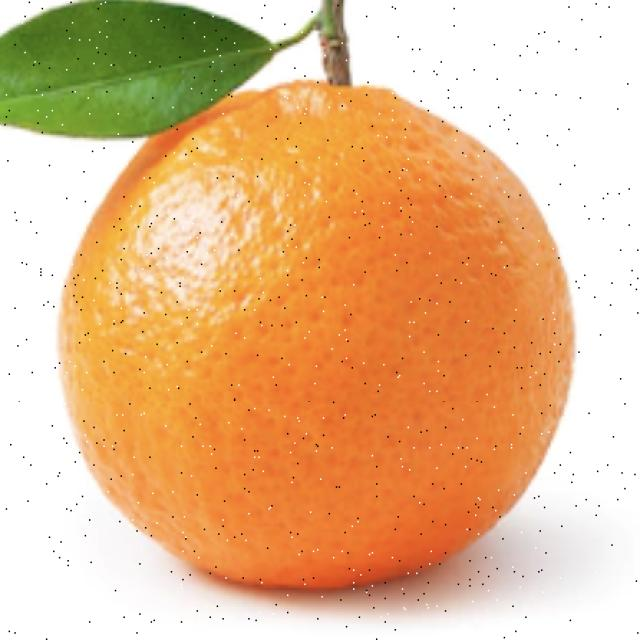orange: (44, 60, 586, 594)
